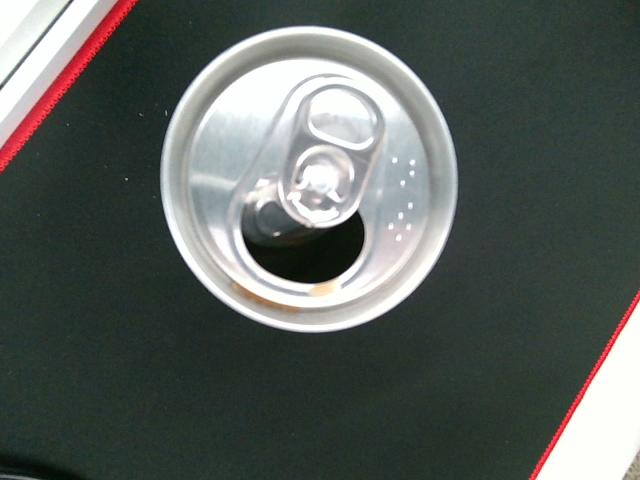letsbe: (158, 24, 459, 333)
